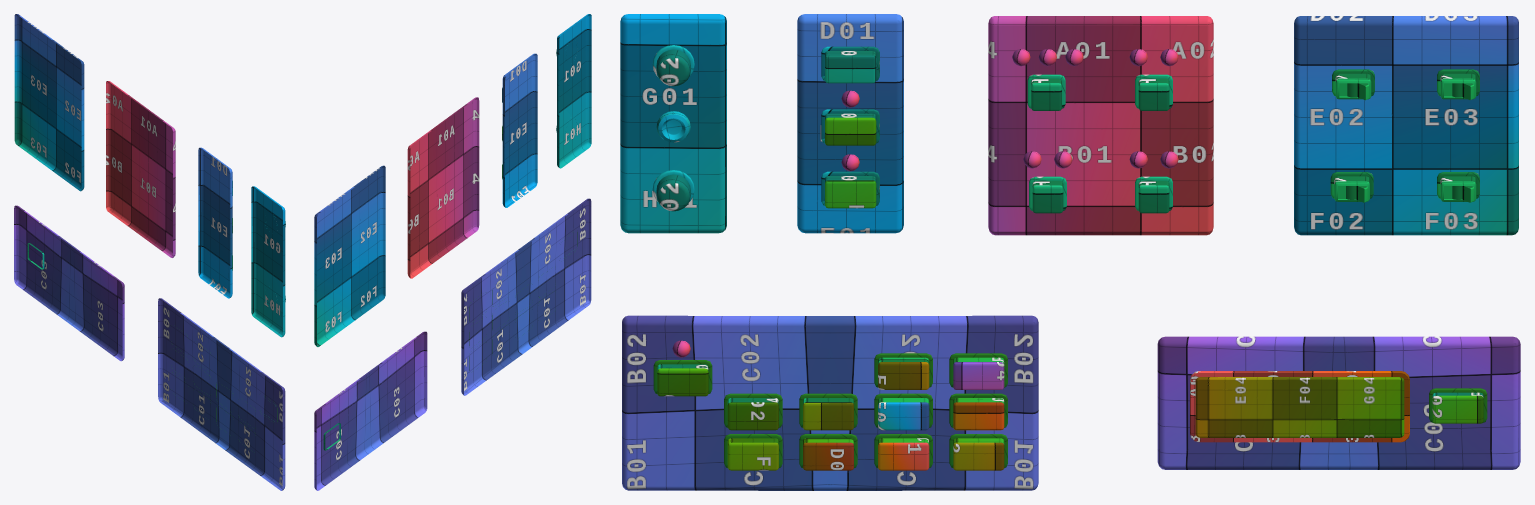
Rendered from Button02_GA.fbx.
3 views of the same model, side by side, from view 1: azimuth 30°, elevation 25°; view 2: azimuth 150°, elevation 25°; view 3: azimuth 270°, elevation 25° (orthographic). The views are drawn at different scales.
Visible parts, largest first — view 1: polySurface10508; view 2: polySurface10508; view 3: polySurface10508, polySurface9972, polySurface9976.
Part boxes in pixels (box(x1,y1,x2,y2)): polySurface10508: box(14, 14, 285, 490); polySurface10508: box(314, 14, 591, 490); polySurface10508: box(620, 14, 1520, 490); polySurface9972: box(656, 174, 690, 211); polySurface9976: box(656, 49, 690, 86).
Bounding box in the file's own units: 1.76 × 28.57 × 48.93.
